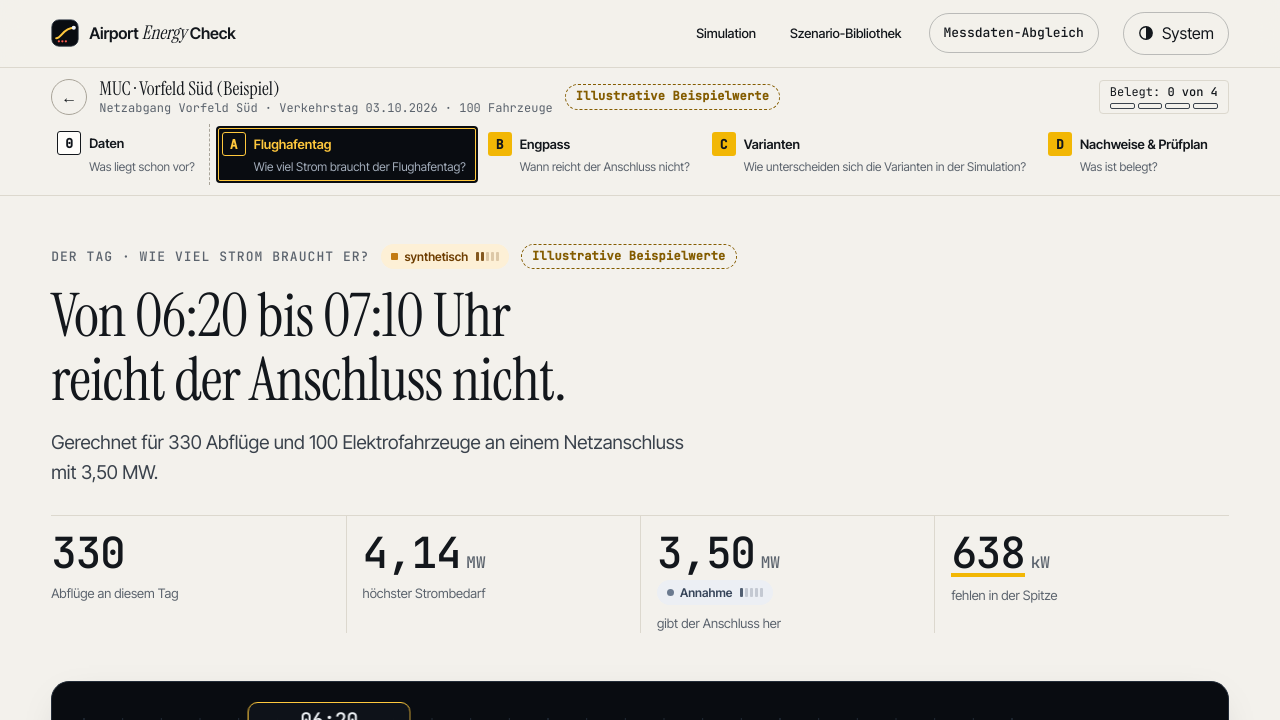
Scenario: Navigation zum Daten-Schritt › zeigt Datenstand im Kopf, Schild 0 und Warnhinweis im Daten-Schritt
What coordinates should you click on to do the following:
click the link with aria-label "0 von 4 Datenquellen belegt"
I would click on:
 (1164, 97)
Its box is 1099,80 -> 1229,114.
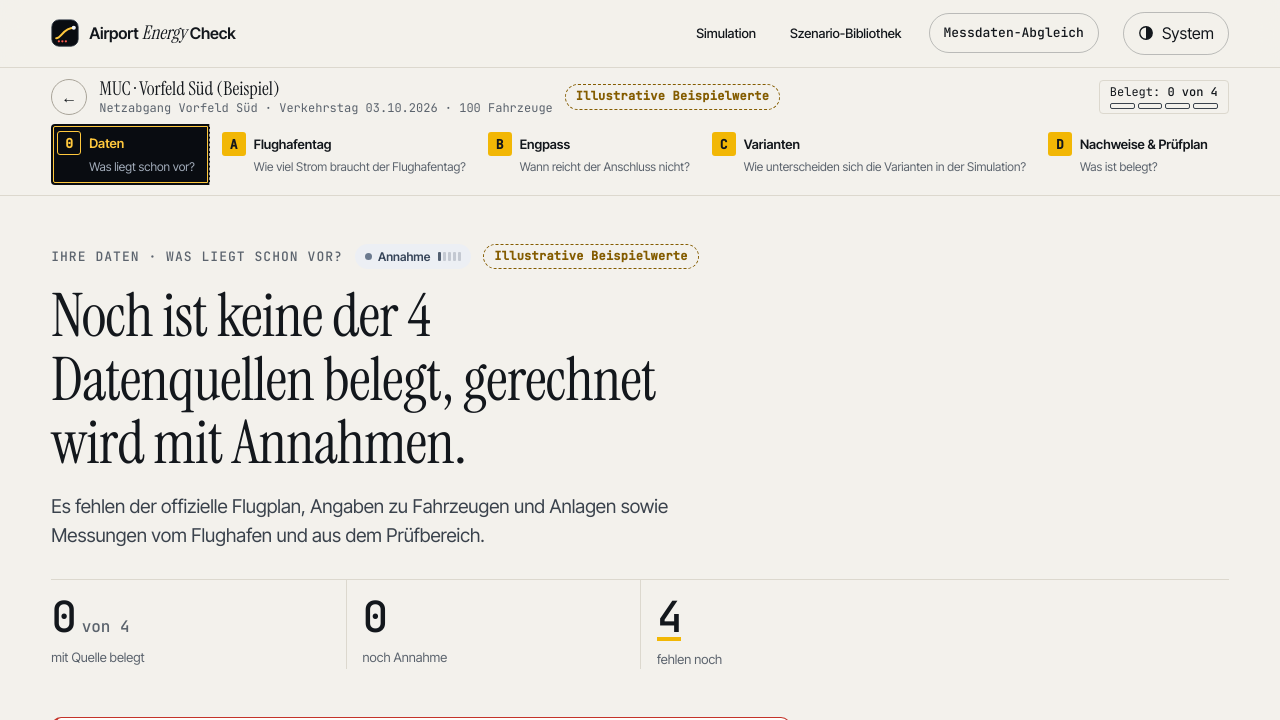
Expected: the link "0 Daten Was liegt schon vor?" is shown, 51,124 -> 210,185
Result: the heading "Noch ist keine der 4 Datenquellen" is shown at 51,277 -> 656,482
